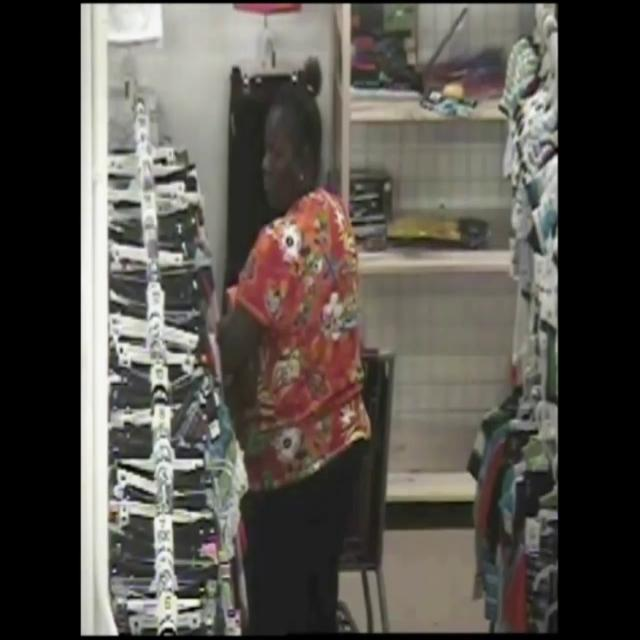normal: (183, 18, 410, 640)
